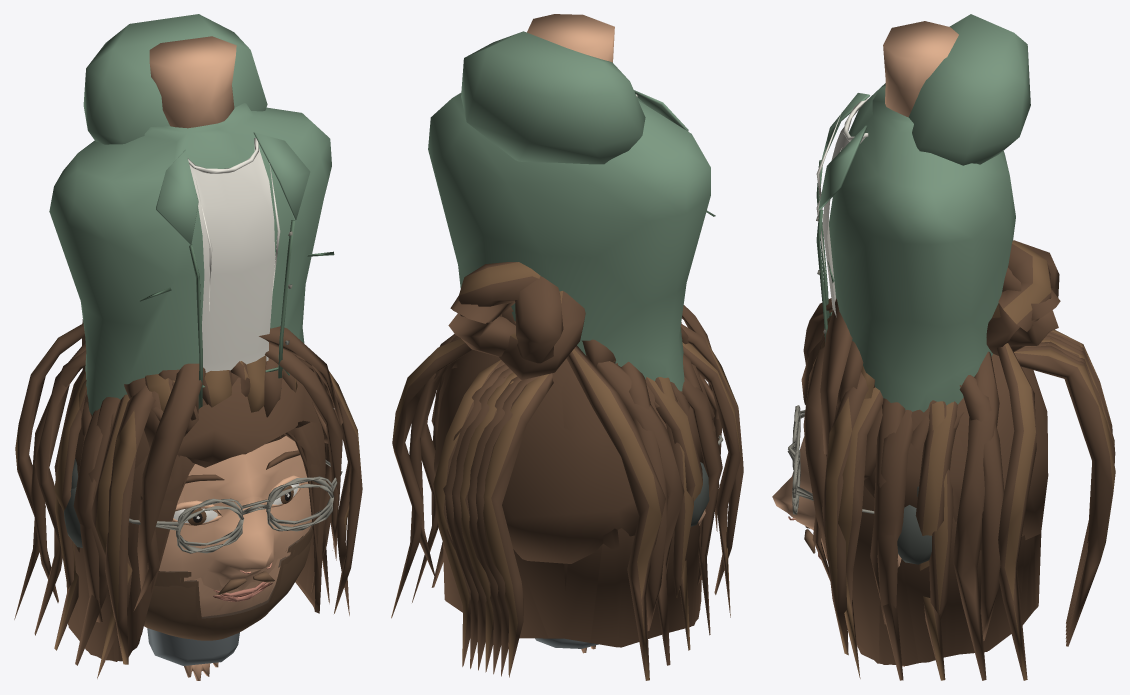
File: characters-medium.glb
The picture shows the model from 3 angles, left to right: view 1: azimuth 30°, elevation 25°; view 2: azimuth 150°, elevation 25°; view 3: azimuth 270°, elevation 25°; orthographic projection.
Visible parts, largest first — view 1: torso, hair_bob, hair_wavy, tee, face_round, hoodie_details, hair_curly, neck, hair_fluffy, beard_short_angular, collar, thigh (+12 smaller); view 2: torso, hair_wavy, hair_ponytail, hair_curly, hoodie_details, hair_bob, hair_bun, neck, hair_fluffy, hair_side-part, headphones; view 3: torso, hair_wavy, hair_bob, hoodie_details, hair_ponytail, hair_curly, hair_bun, neck, hair_side-part, collar, face_round, headphones (+4 smaller).
Part boxes in pixels (box(x1,y1,x2,y2)): torso: box(49, 103, 331, 415); hair_bob: box(31, 343, 362, 664); hair_wavy: box(14, 323, 350, 678); tee: box(187, 138, 275, 372); face_round: box(159, 437, 311, 613); hoodie_details: box(83, 14, 289, 387); hair_curly: box(54, 361, 327, 481); neck: box(149, 36, 236, 128); hair_fluffy: box(82, 355, 326, 467); beard_short_angular: box(144, 525, 312, 640); collar: box(156, 132, 310, 244); thigh: box(147, 628, 239, 665); torso: box(428, 93, 710, 391); hair_wavy: box(391, 335, 741, 680); hair_ponytail: box(433, 360, 553, 677); hair_curly: box(434, 341, 714, 563); hoodie_details: box(461, 31, 645, 164); hair_bob: box(409, 305, 743, 647); hair_bun: box(448, 262, 718, 531); neck: box(527, 14, 614, 62); hair_fluffy: box(437, 322, 689, 549); hair_side-part: box(582, 339, 615, 367); headphones: box(690, 462, 709, 526); torso: box(829, 83, 1015, 412); hair_wavy: box(838, 343, 1036, 680); hair_bob: box(803, 298, 1041, 664); hoodie_details: box(816, 14, 1030, 316); hair_ponytail: box(1014, 329, 1115, 646); hair_curly: box(801, 337, 1048, 550); hair_bun: box(812, 240, 1060, 580); neck: box(883, 21, 958, 117); hair_side-part: box(820, 298, 874, 454); collar: box(818, 93, 869, 210); face_round: box(772, 440, 826, 558); headphones: box(897, 486, 931, 564).
Size of the model in its own units: 0.5271 by 1.17 by 0.583.
